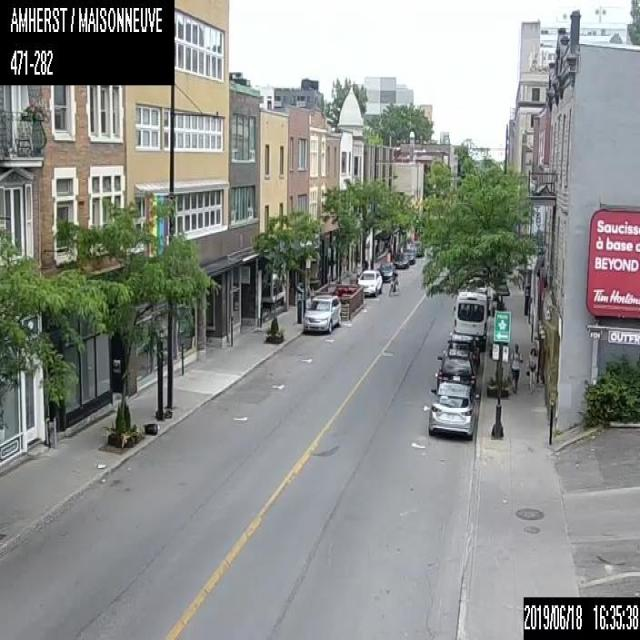cyclist: (388, 269, 400, 295)
pedestrian: (509, 341, 522, 392), (525, 344, 537, 388)
vehicle: (428, 380, 478, 440), (452, 290, 490, 350), (436, 348, 476, 390), (302, 292, 341, 334), (446, 333, 480, 366), (356, 269, 382, 295), (378, 261, 394, 281), (393, 253, 408, 267)
